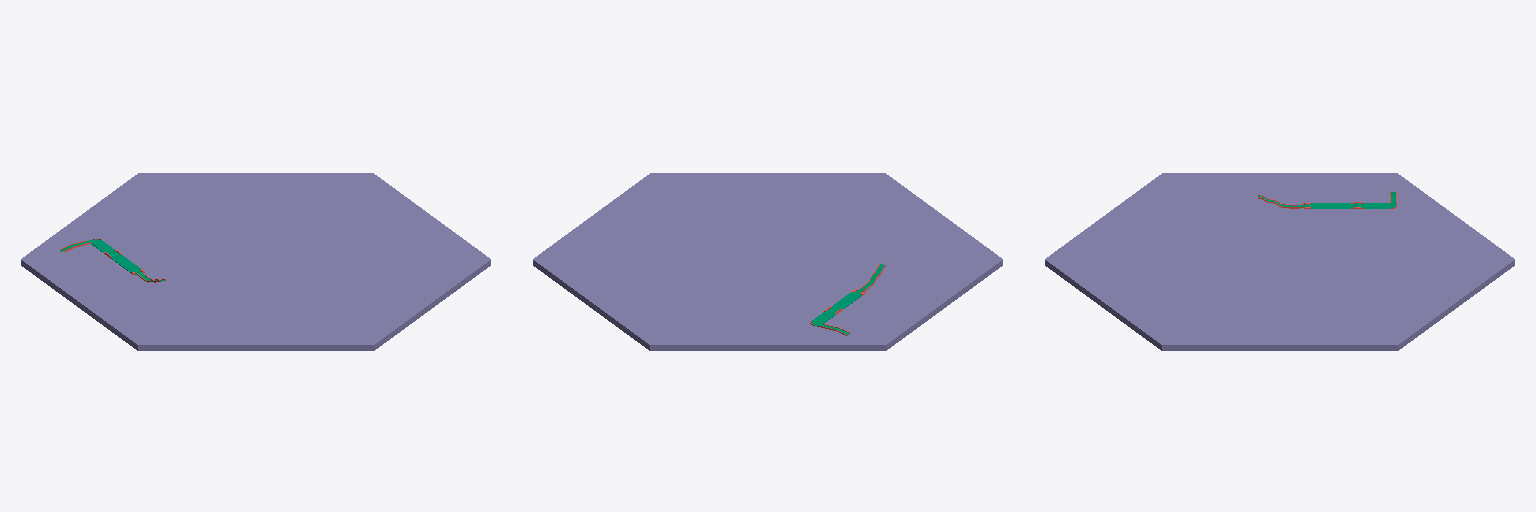
File: TestBed-1.obj
The picture shows the model from 3 angles: view 1: azimuth 30°, elevation 25°; view 2: azimuth 150°, elevation 25°; view 3: azimuth 270°, elevation 25°; orthographic projection.
Parts seen in each view (by area): view 1: hexagon; view 2: hexagon; view 3: hexagon.
Part boxes in pixels (x1,y1,x2,y2): hexagon: (21, 173, 490, 350); hexagon: (533, 173, 1002, 350); hexagon: (1045, 173, 1514, 350).
Size of the model in its own units: 61.5 by 3.1 by 71.01.